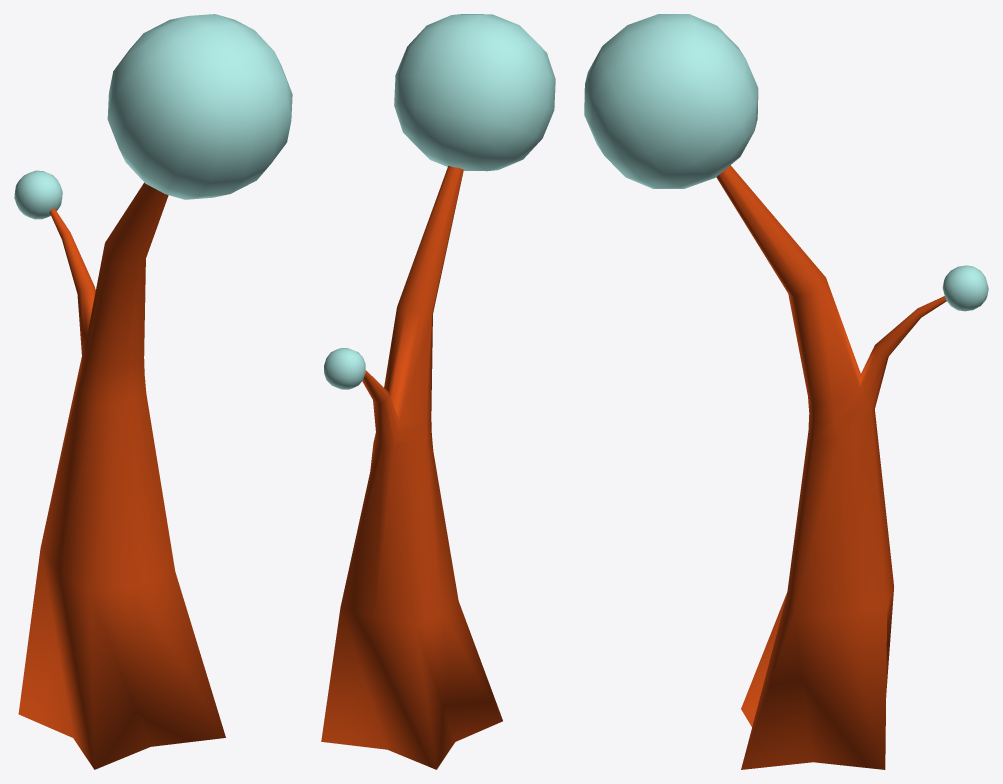
The model's file is lorax_tree.fbx.
The picture shows the model from 3 angles, left to right: view 1: azimuth 30°, elevation 25°; view 2: azimuth 150°, elevation 25°; view 3: azimuth 270°, elevation 25°; orthographic projection. The views are drawn at different scales.
Parts seen in each view (by area): view 1: Cylinder; view 2: Cylinder; view 3: Cylinder.
Boxes of the visible parts, x1,y1,x2,y2 form: Cylinder: [14, 14, 292, 769]; Cylinder: [321, 14, 555, 769]; Cylinder: [584, 14, 988, 769].
Bounding box in the file's own units: 322 × 1471 × 750.
